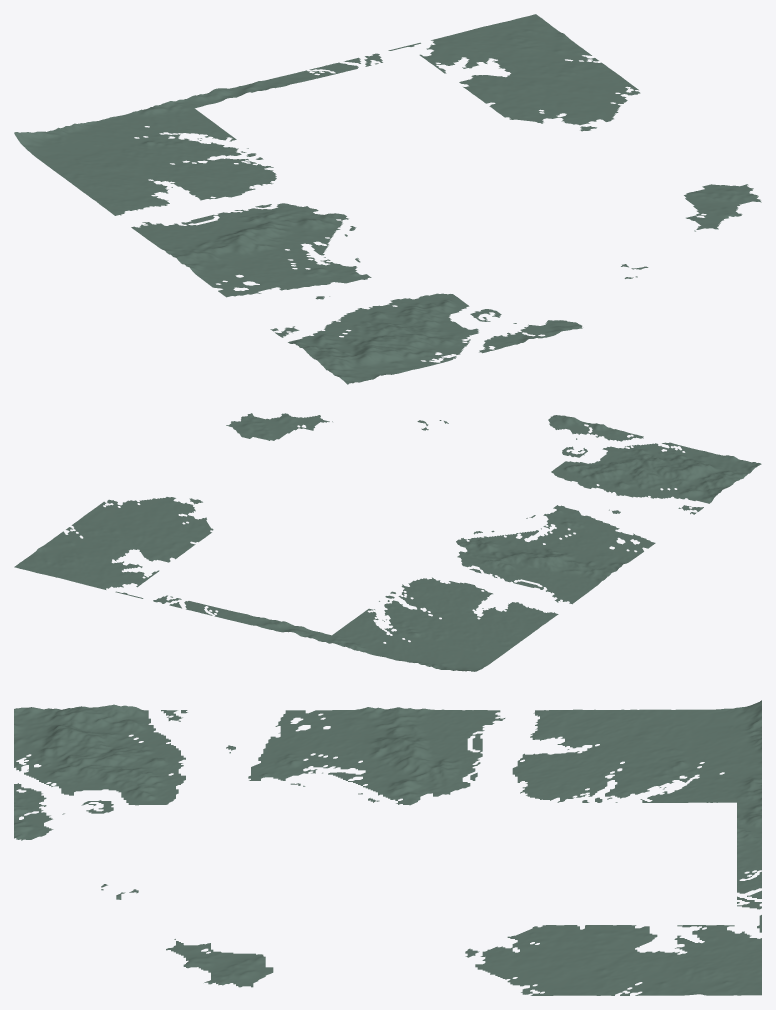
File: opposite-shore.glb
3 renders of one model, top to bottom at view 1: azimuth 30°, elevation 25°; view 2: azimuth 150°, elevation 25°; view 3: azimuth 270°, elevation 25°, orthographic. The views are drawn at different scales.
Parts seen in each view (by area): view 1: opposite_shore_terrain; view 2: opposite_shore_terrain; view 3: opposite_shore_terrain.
Boxes of the visible parts, <box> form: opposite_shore_terrain: <box>14,14,761,384</box>; opposite_shore_terrain: <box>14,413,761,671</box>; opposite_shore_terrain: <box>14,700,761,995</box>.
Size of the model in its own units: 18970 by 333 by 21000.
